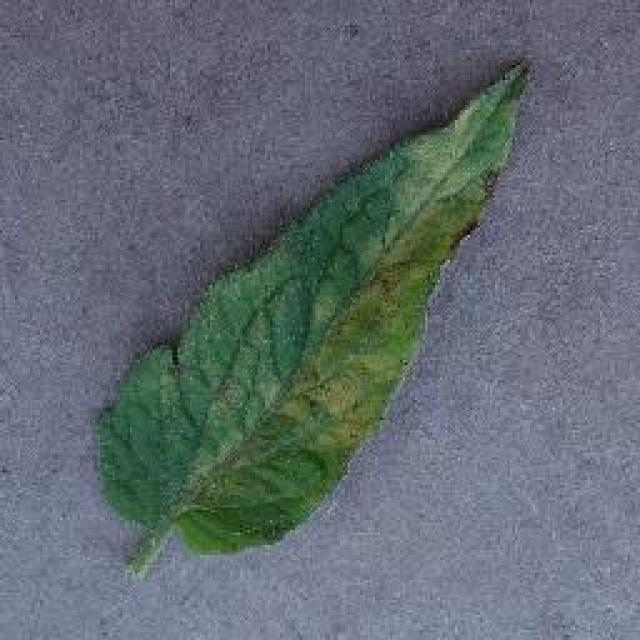Tomato mold leaf: (103, 57, 536, 556)
